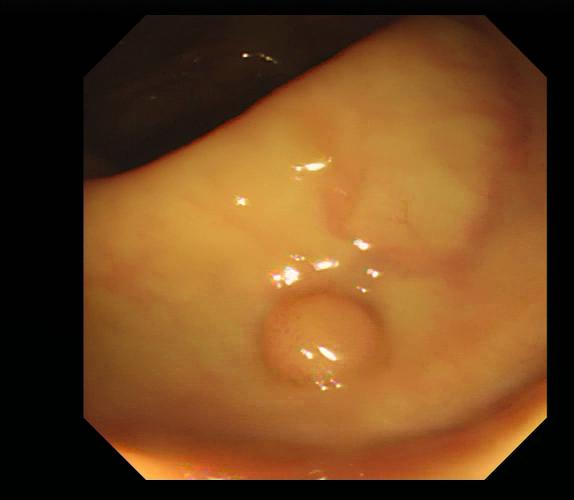polyp: (259, 288, 385, 392)
